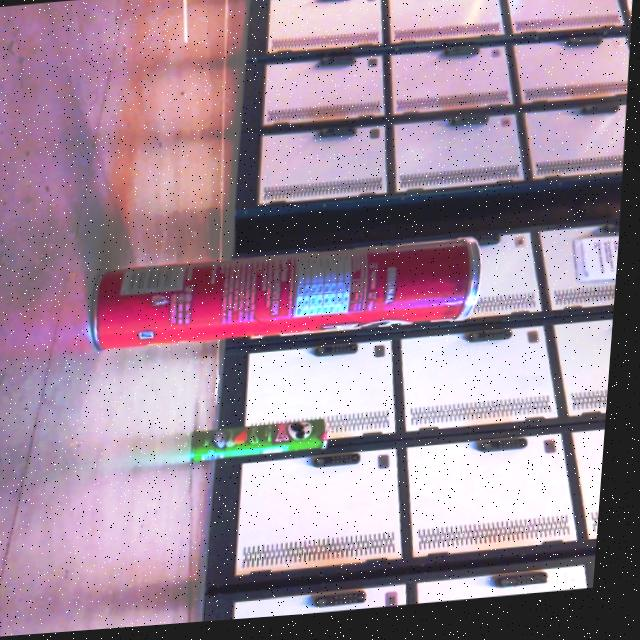greenpringles: (186, 407, 345, 479)
redpringles: (78, 214, 521, 372)
